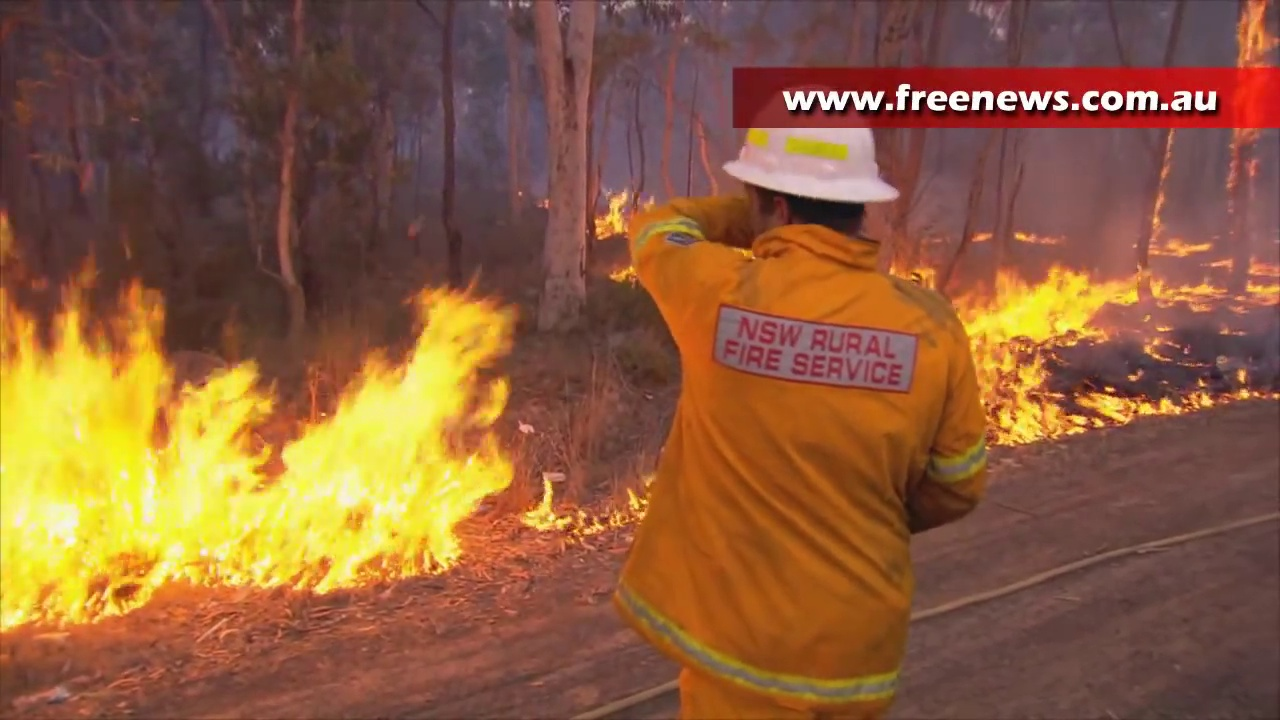fire: (1, 273, 514, 620), (957, 266, 1139, 438), (1130, 278, 1276, 310), (1138, 382, 1280, 409), (1241, 2, 1267, 62), (1156, 236, 1200, 258), (605, 195, 624, 234), (541, 478, 556, 521)
